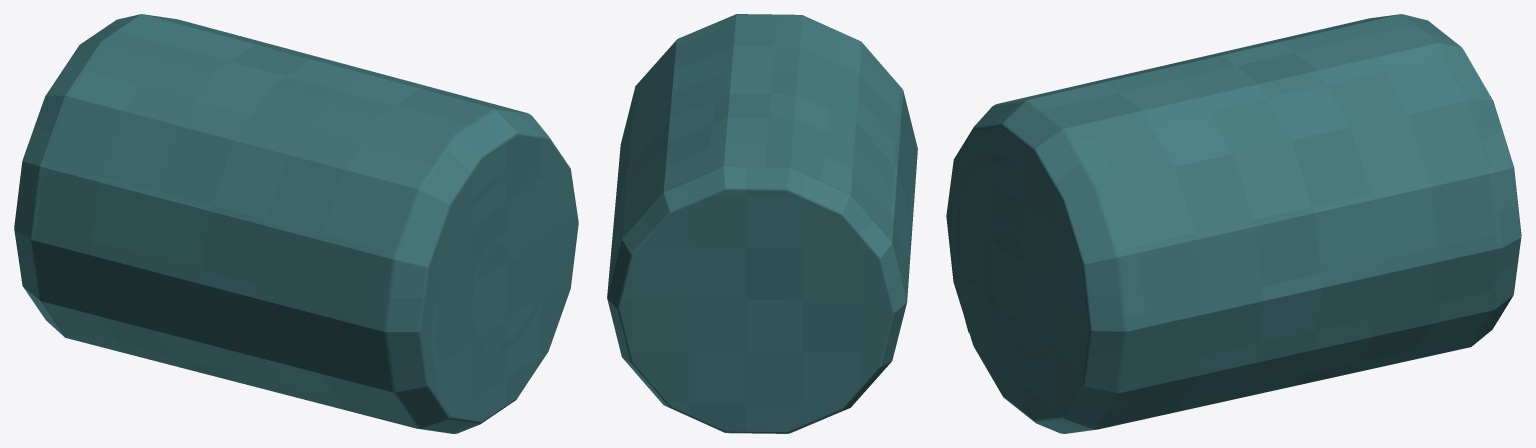
File: BasketBlueRoll.glb
3 views of the same model, side by side, from view 1: azimuth 30°, elevation 25°; view 2: azimuth 150°, elevation 25°; view 3: azimuth 270°, elevation 25° (orthographic). The views are drawn at different scales.
Parts seen in each view (by area): view 1: BasketBlueRoll.Rolled-linen, BasketBlueRoll.Wound-edge; view 2: BasketBlueRoll.Rolled-linen; view 3: BasketBlueRoll.Rolled-linen, BasketBlueRoll.Wound-edge.
Boxes of the visible parts, x1,y1,x2,y2 form: BasketBlueRoll.Rolled-linen: (14, 14, 578, 433); BasketBlueRoll.Wound-edge: (431, 169, 555, 407); BasketBlueRoll.Rolled-linen: (607, 14, 917, 433); BasketBlueRoll.Rolled-linen: (946, 14, 1521, 433); BasketBlueRoll.Wound-edge: (951, 152, 1063, 361).
Bounding box in the file's own units: 0.2642 × 0.1767 × 0.2986.
1 material, 1 textured.
